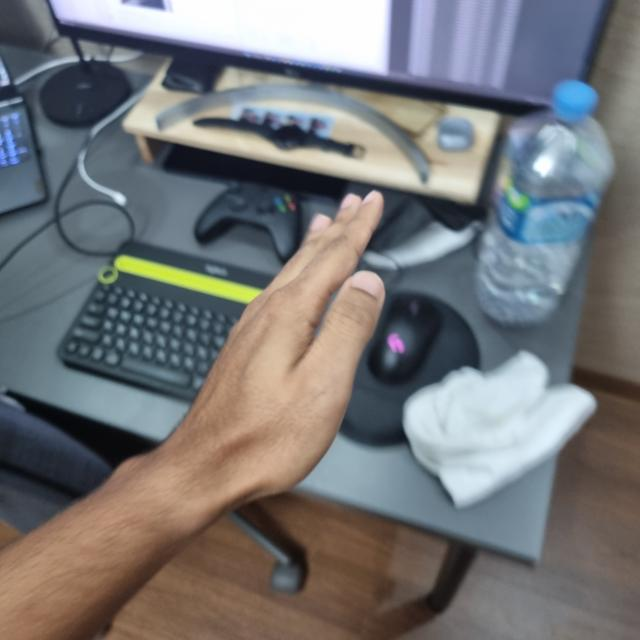Paper: (167, 196, 387, 506)
